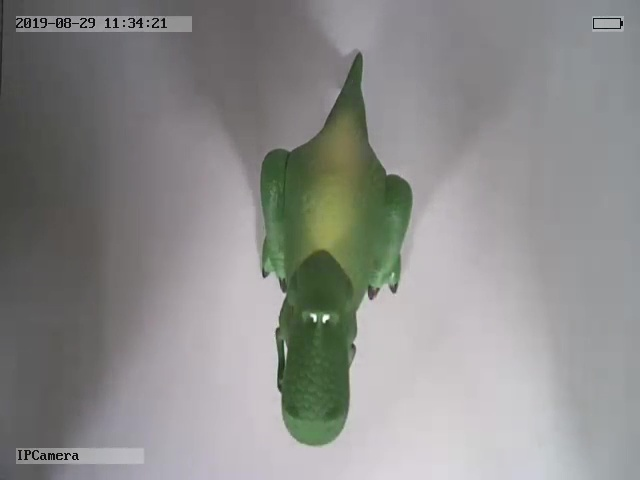rex: (255, 49, 415, 449)
